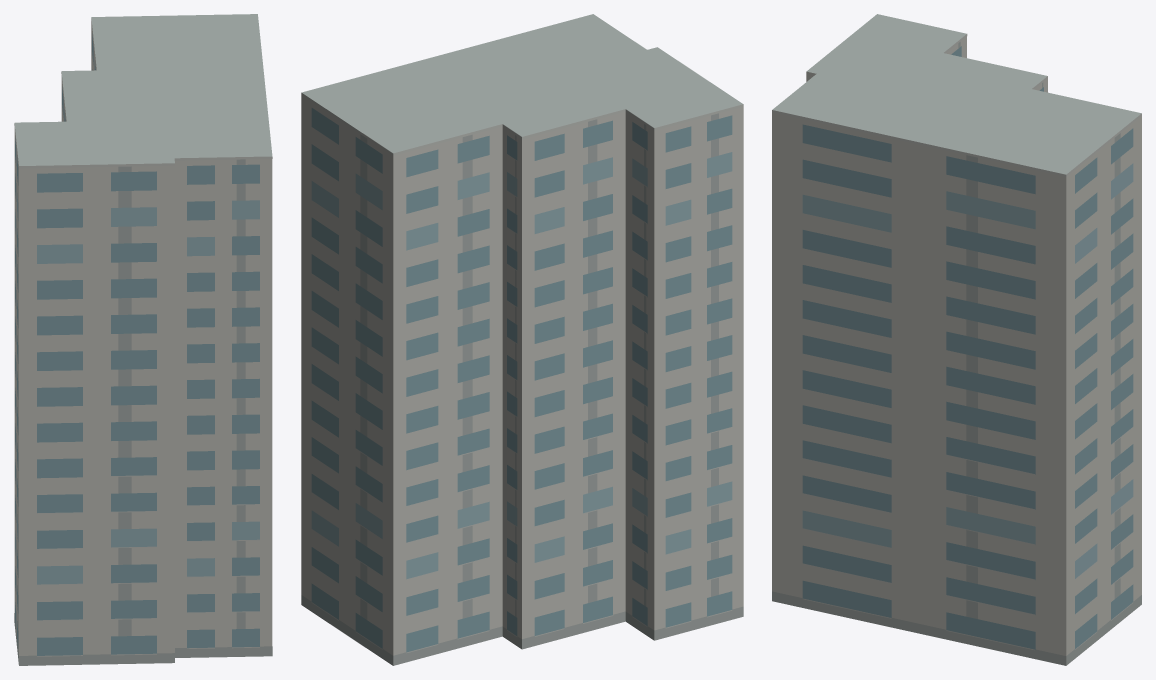
Rendered from residential-a7422d26-e5b2-4941-ab42-69727980375c.glb.
3 views of the same model, side by side, from view 1: azimuth 30°, elevation 25°; view 2: azimuth 150°, elevation 25°; view 3: azimuth 270°, elevation 25° (orthographic). The views are drawn at different scales.
Visible parts, largest first — view 1: residential-a7422d26-e5b2-4941-ab42-69727980375c.tmp; view 2: residential-a7422d26-e5b2-4941-ab42-69727980375c.tmp; view 3: residential-a7422d26-e5b2-4941-ab42-69727980375c.tmp.
Part boxes in pixels (bbox=[...]): residential-a7422d26-e5b2-4941-ab42-69727980375c.tmp: bbox=[14, 14, 272, 665]; residential-a7422d26-e5b2-4941-ab42-69727980375c.tmp: bbox=[301, 14, 743, 665]; residential-a7422d26-e5b2-4941-ab42-69727980375c.tmp: bbox=[772, 14, 1141, 665].
Size of the model in its own units: 35.08 by 50 by 34.12.
